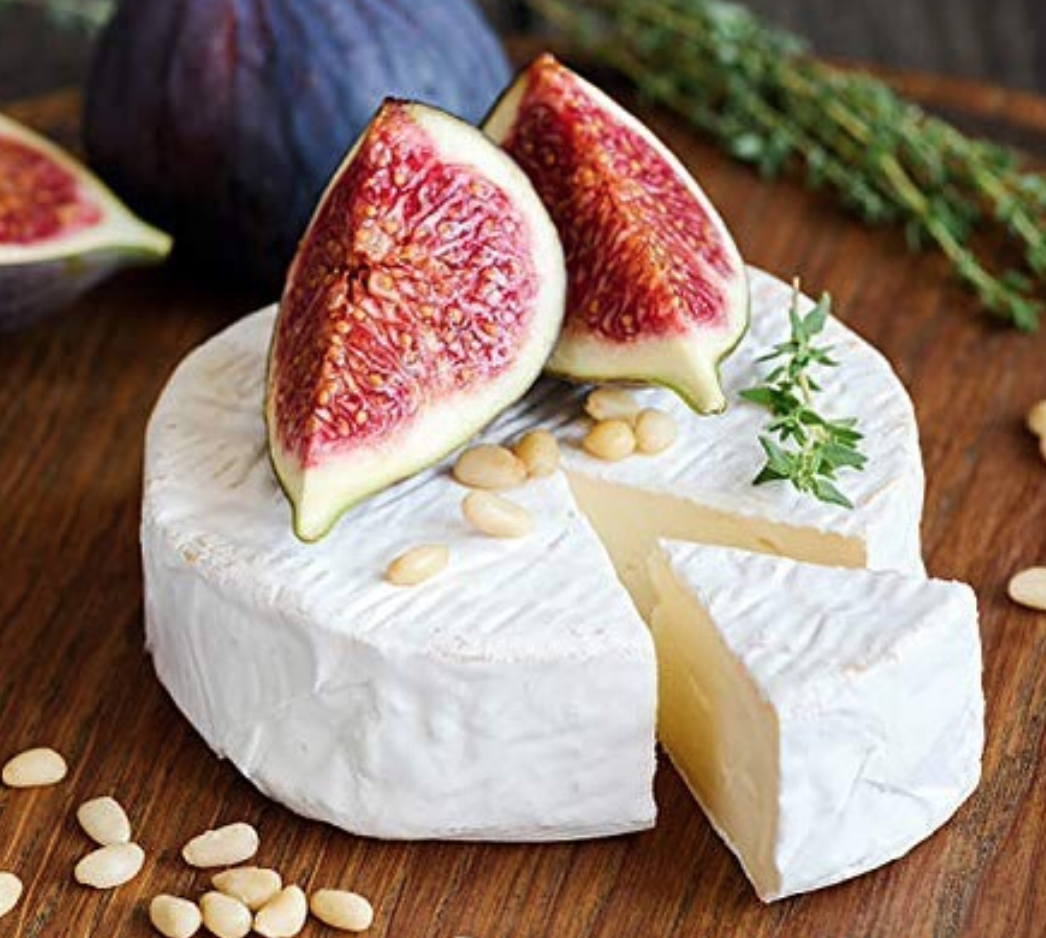camembert: (138, 257, 987, 901)
